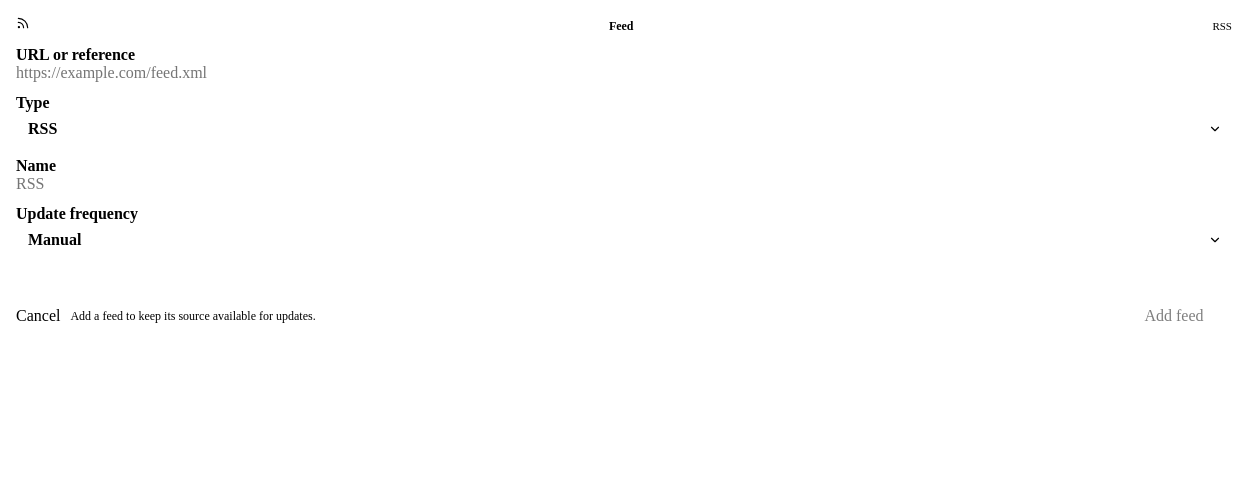
Test: feed setup independent of the import workspace › clears an earlier create error when correcting source-kind
In the field with test id "source-url": (624, 73) [16,64,1232,82], type "https://example.test/api/items"
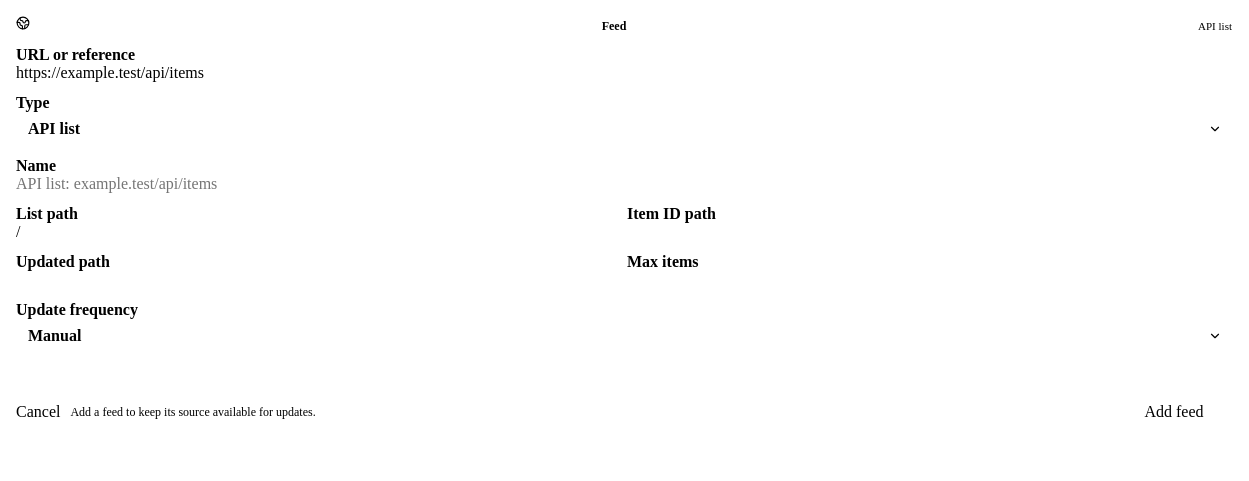
Click the button with test id "source-create": (1174, 412) [1116,403,1232,421]
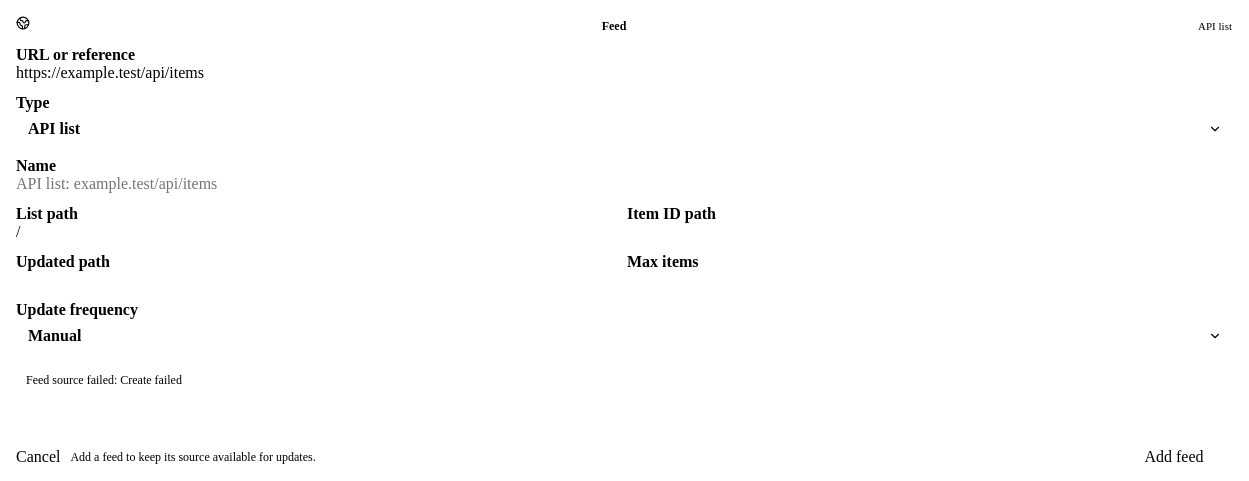
expect the message shows "Create failed": met, box [26,373,182,387]
Select "RSS" in the dropdown with test id "source-kind": (624, 128) [16,112,1232,145]
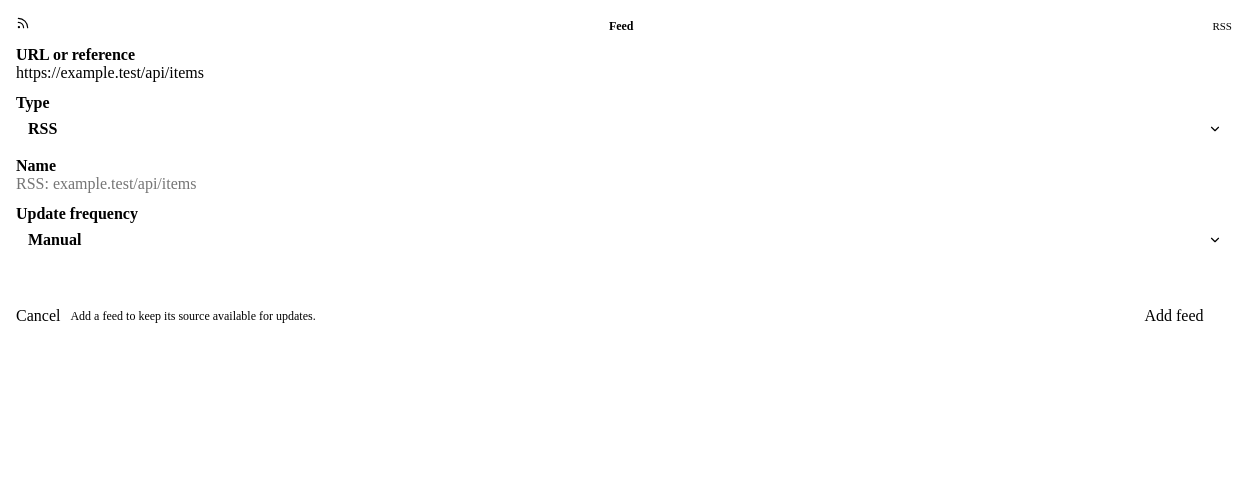
expect the message "Feed source failed: Create failed" is gone: met
